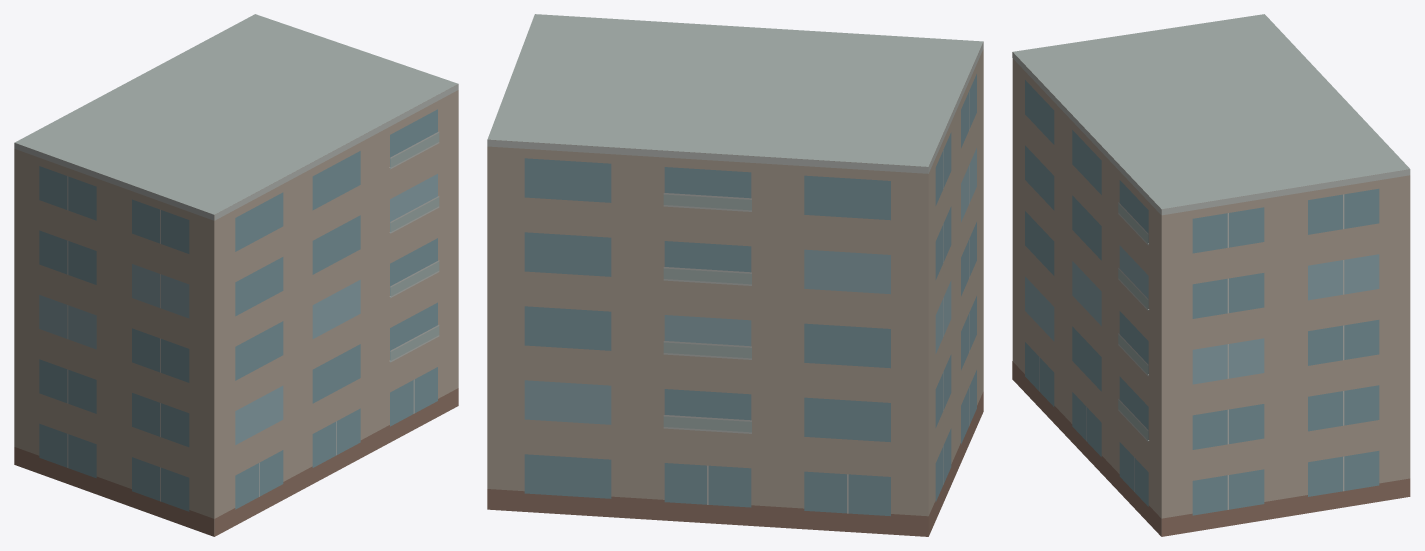
The model's file is survey-upis-32863619.glb.
The picture shows the model from 3 angles, left to right: view 1: azimuth 30°, elevation 25°; view 2: azimuth 150°, elevation 25°; view 3: azimuth 270°, elevation 25°; orthographic projection. The views are drawn at different scales.
Parts seen in each view (by area): view 1: survey-upis-32863619.tmp; view 2: survey-upis-32863619.tmp; view 3: survey-upis-32863619.tmp.
Part boxes in pixels (x1,y1,x2,y2): survey-upis-32863619.tmp: (14, 14, 458, 536); survey-upis-32863619.tmp: (487, 14, 983, 536); survey-upis-32863619.tmp: (1012, 14, 1410, 536).
Size of the model in its own units: 16.63 by 13 by 14.32.
